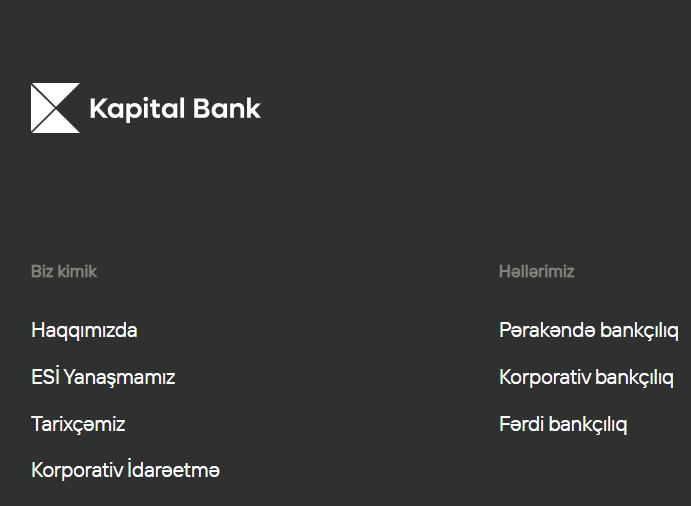Kapital Bank: (29, 81, 81, 135)
